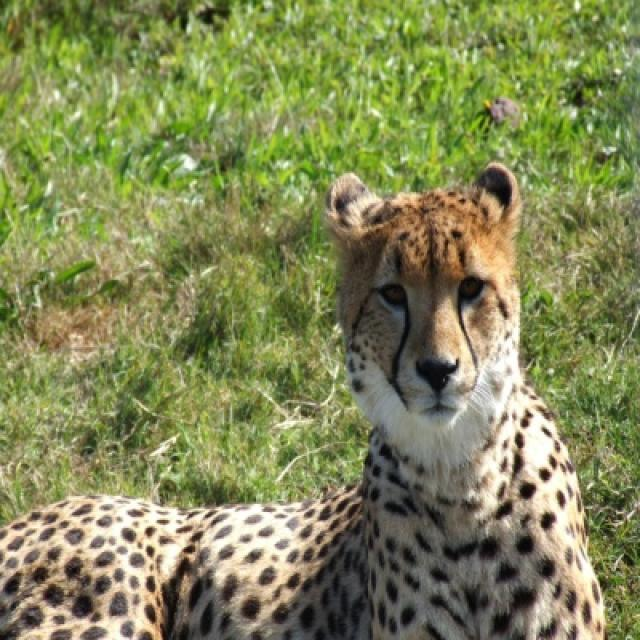Cheetah: (0, 163, 608, 638)
